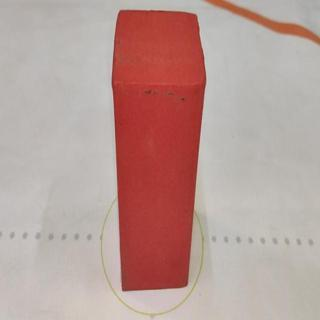redbox: (109, 7, 205, 291)
